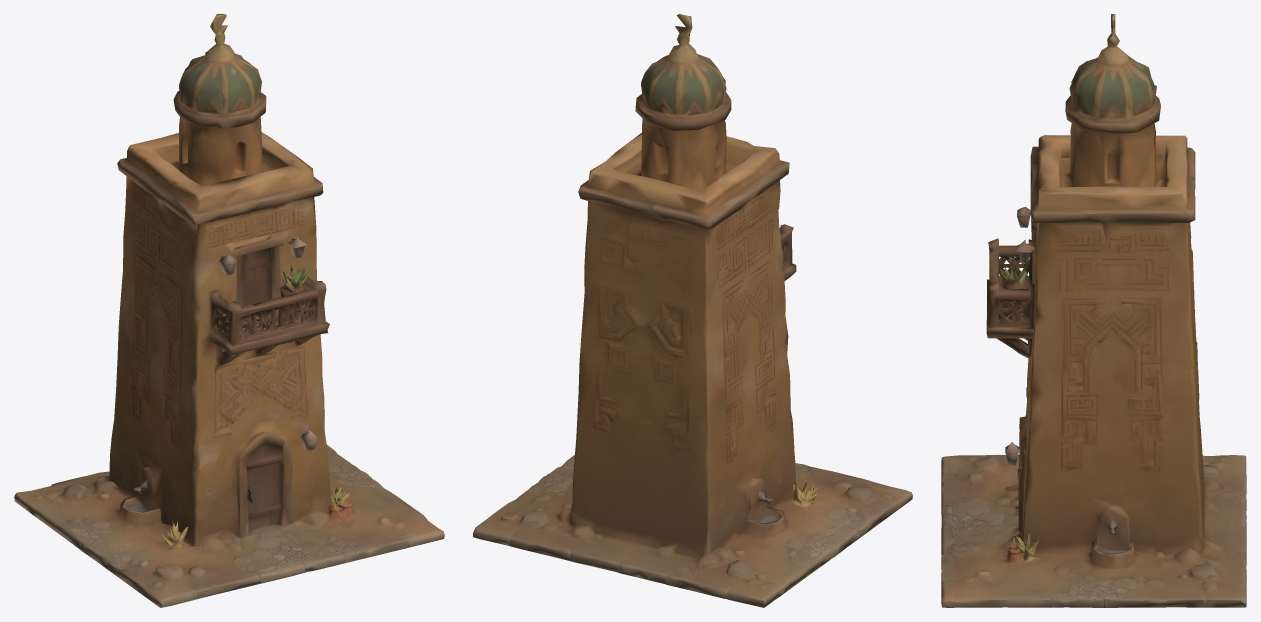
File: kano_minaret.glb
The picture shows the model from 3 angles, left to right: view 1: azimuth 30°, elevation 25°; view 2: azimuth 150°, elevation 25°; view 3: azimuth 270°, elevation 25°; orthographic projection. The views are drawn at different scales.
Parts seen in each view (by area): view 1: tripo_node_64ffd48b-8dfe-4f4f-beed-d2f8b02f64c2; view 2: tripo_node_64ffd48b-8dfe-4f4f-beed-d2f8b02f64c2; view 3: tripo_node_64ffd48b-8dfe-4f4f-beed-d2f8b02f64c2.
Boxes of the visible parts, <box> form: tripo_node_64ffd48b-8dfe-4f4f-beed-d2f8b02f64c2: <box>14,14,444,607</box>; tripo_node_64ffd48b-8dfe-4f4f-beed-d2f8b02f64c2: <box>473,14,912,607</box>; tripo_node_64ffd48b-8dfe-4f4f-beed-d2f8b02f64c2: <box>941,14,1246,607</box>.
Size of the model in its own units: 0.5987 by 1 by 0.5318.
Materials: 1 (1 with a texture image).
